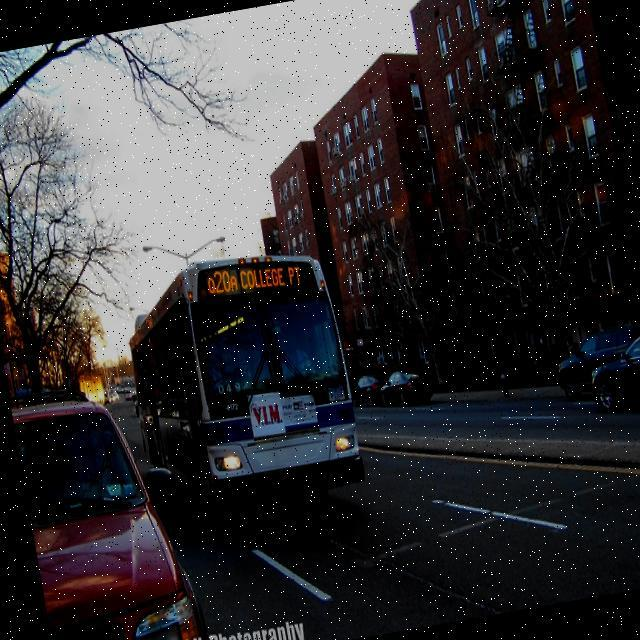fire_hydrant: (498, 370, 508, 395)
